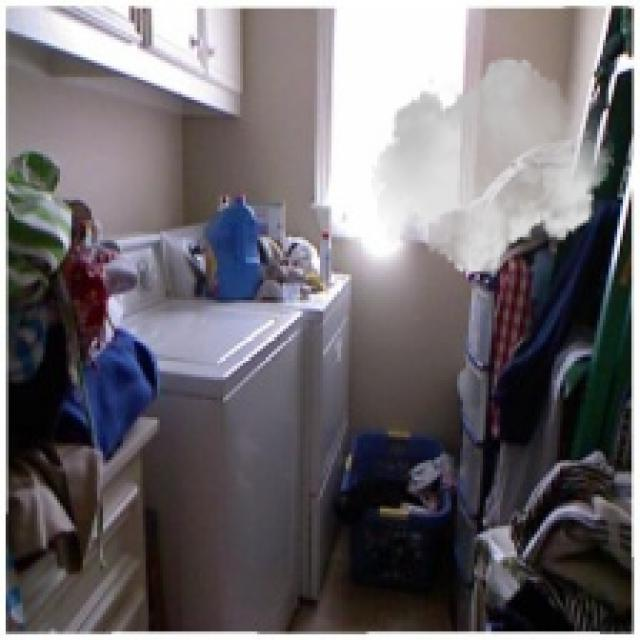smoke: (372, 48, 614, 283)
